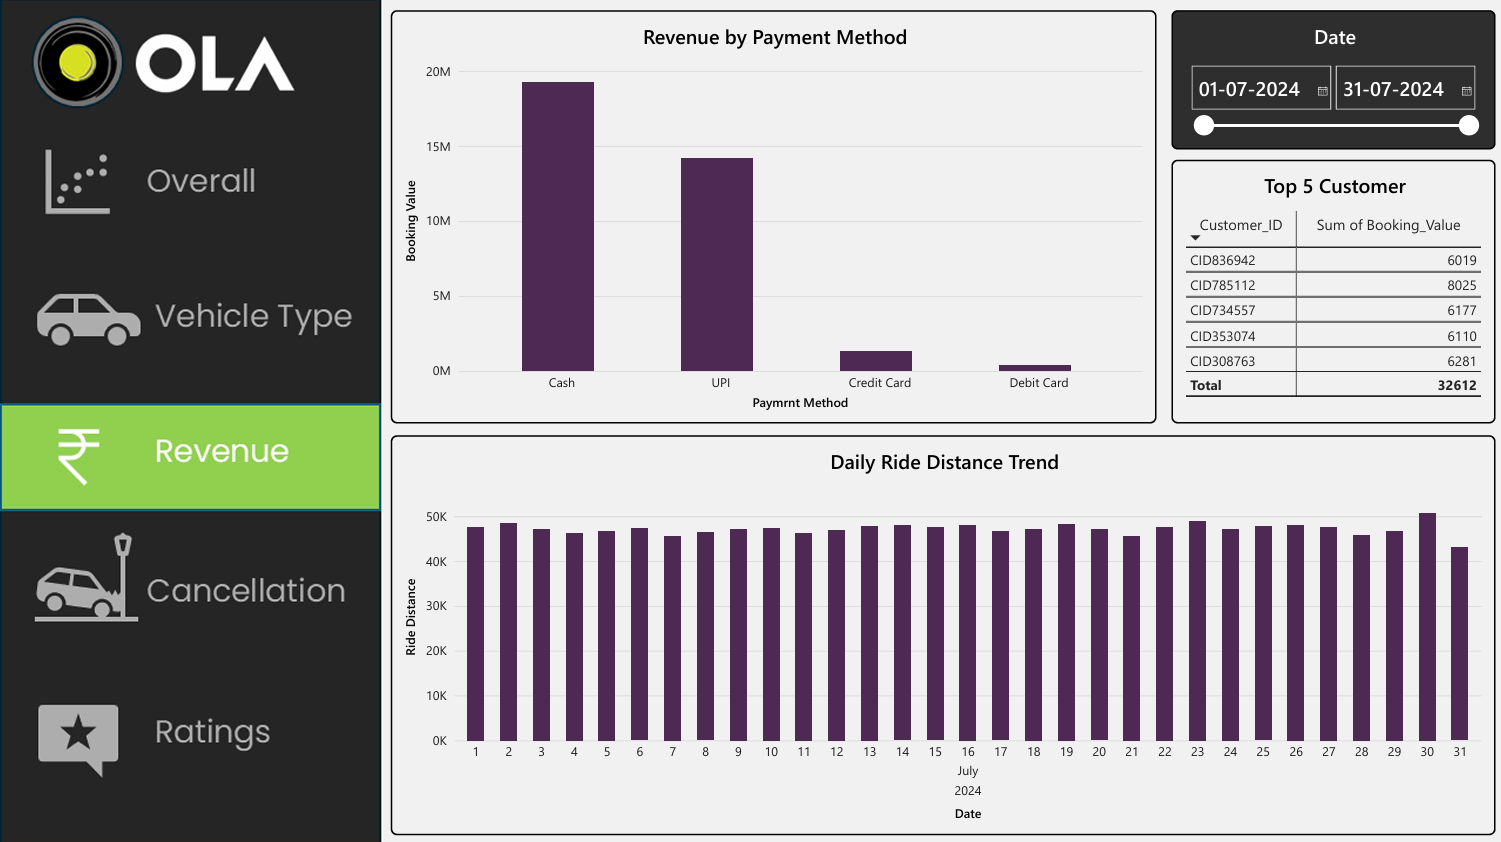

The page's visual inventory and layout, read from the dashboard file:
{"tool":"powerbi","page":{"name":"Revenue","canvas":[1920,1080],"ordinal":2},"visuals":[{"type":"actionButton","box":[0,177,485.9,126.9],"z":0},{"type":"actionButton","box":[0,344,485.9,126.9],"z":1000},{"type":"actionButton","box":[0,676.3,485.9,126.9],"z":2000},{"type":"actionButton","box":[0,873.3,485.9,126.9],"z":3000},{"type":"columnChart","title":"Revenue by Payment Method","fields":{"Category":["Bookings.Payment_Method"],"Y":["Sum(Bookings.Booking_Value)"]},"box":[498.3,12.1,977.6,527.6],"z":4000},{"type":"columnChart","title":"Daily Ride Distance Trend","fields":{"Category":["Bookings.Date.Variation.Date Hierarchy.Year","Bookings.Date.Variation.Date Hierarchy.Month","Bookings.Date.Variation.Date Hierarchy.Day"],"Y":["Sum(Bookings.Ride_Distance)"]},"box":[498.3,555.2,1410.3,510.3],"z":5000},{"type":"slicer","title":"Date","fields":{"Values":["Bookings.Date"]},"box":[1494.8,12.1,413.8,177.6],"z":6000},{"type":"tableEx","title":"Top 5 Customer","fields":{"Values":["Bookings.Customer_ID","Sum(Bookings.Booking_Value)"]},"box":[1494.8,203.4,413.8,336.2],"z":7000}]}

Visuals, with their boxes in screenshot pixels (x1, y1, x2, y2), scaled from the page's 1920x1080 canvas onto the 1501x842 screenshot:
actionButton: [left=0, top=138, right=380, bottom=237]
actionButton: [left=0, top=268, right=380, bottom=367]
actionButton: [left=0, top=527, right=380, bottom=626]
actionButton: [left=0, top=681, right=380, bottom=780]
"Revenue by Payment Method" columnChart: [left=390, top=9, right=1154, bottom=421]
"Daily Ride Distance Trend" columnChart: [left=390, top=433, right=1492, bottom=831]
"Date" slicer: [left=1169, top=9, right=1492, bottom=148]
"Top 5 Customer" tableEx: [left=1169, top=159, right=1492, bottom=421]
